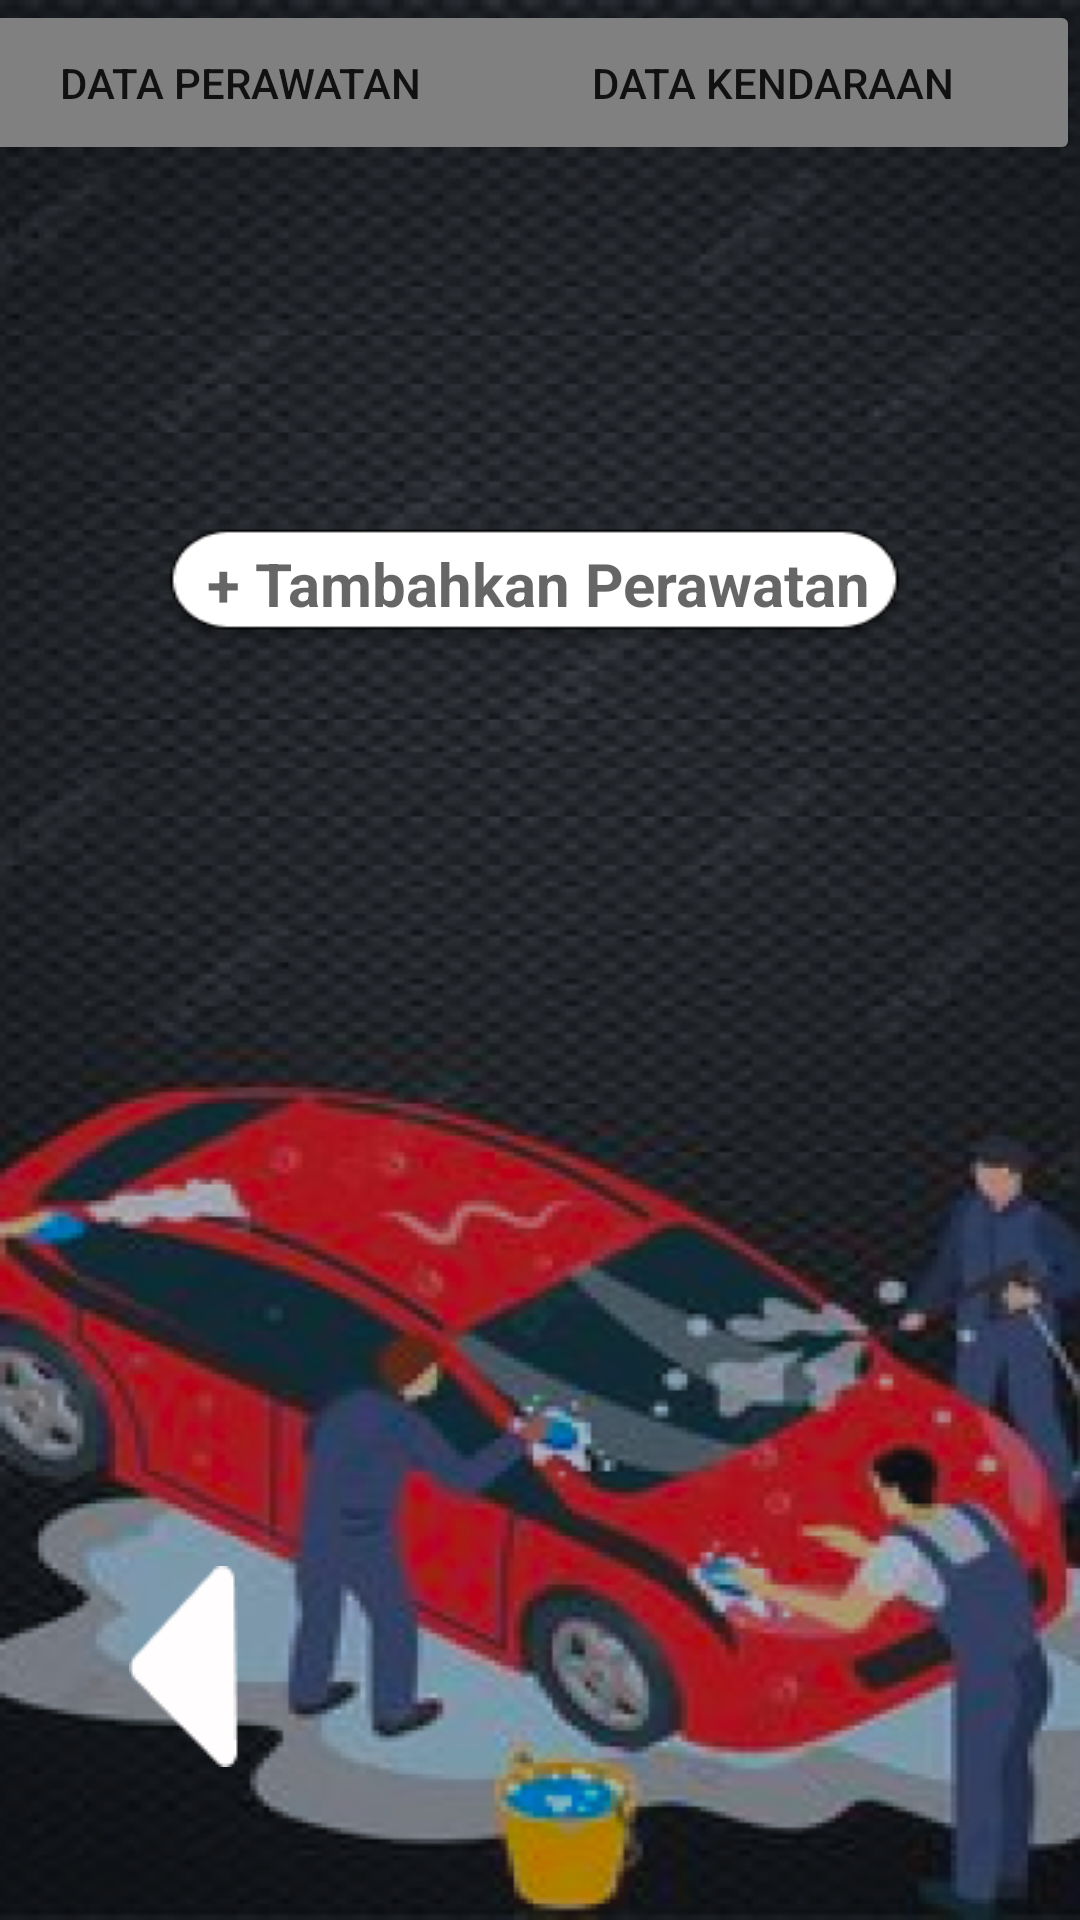

Icons on this 1080px×1920px Android screen, each with the point to tap as (x,y):
back: (184,1666)
